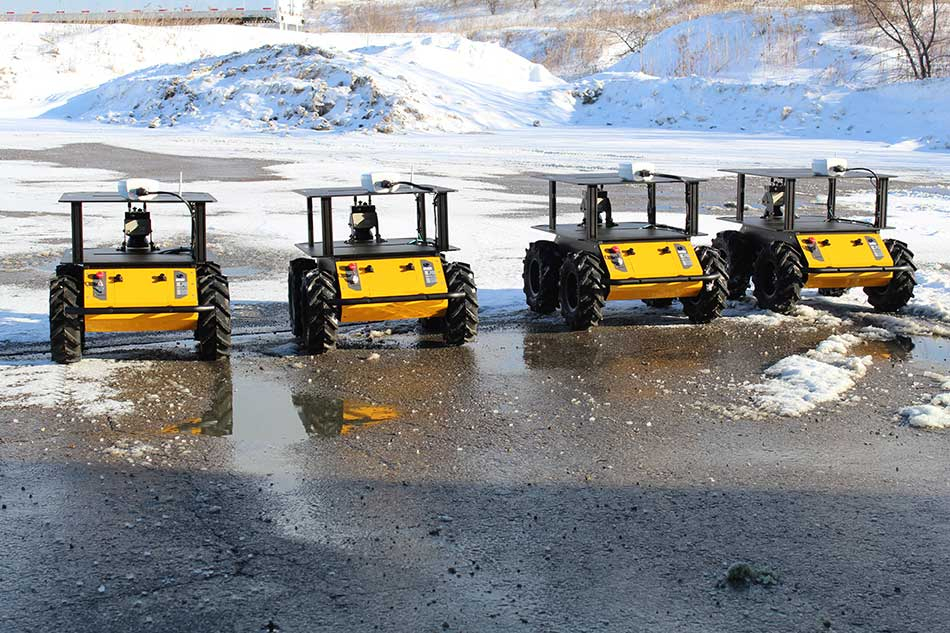husky: (522, 222, 730, 333), (287, 236, 479, 354), (48, 252, 231, 364), (711, 219, 917, 313)
